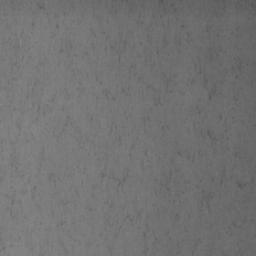Silk spot: (9, 0, 253, 133), (110, 122, 214, 217), (49, 116, 130, 198), (190, 105, 248, 192), (96, 204, 184, 256), (0, 119, 40, 218), (4, 0, 82, 38), (2, 22, 35, 89), (214, 0, 256, 20), (224, 216, 254, 236)
